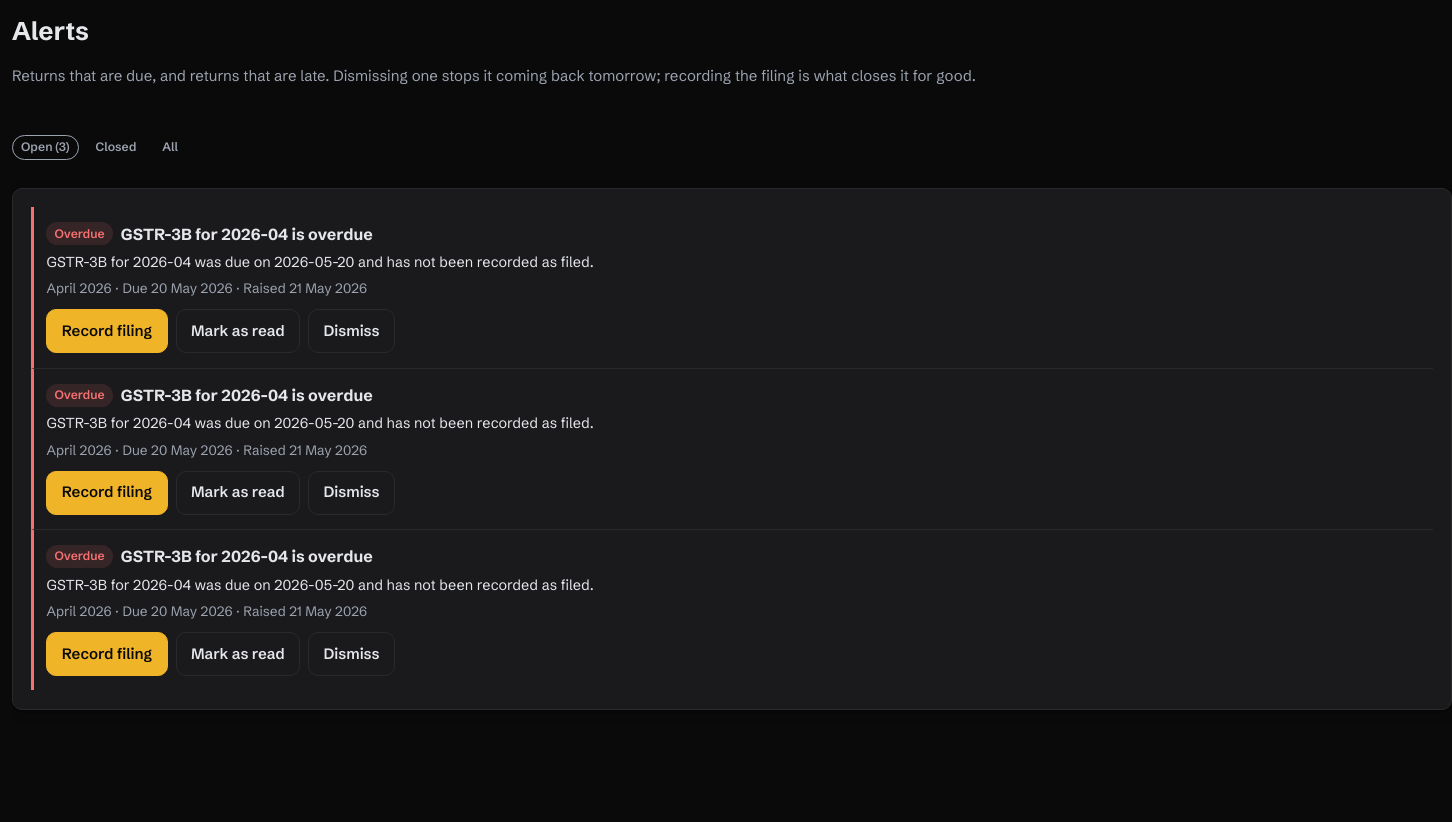
Test: an action that outlives the tab it was started on › does not take the same alert off the open count twice
This screenshot has width=1452, height=822.
Expected: the button "Open (3)" is shown, [12, 135, 79, 160]
Click the 1st button "Dismiss". click: [352, 331]
box: [308, 309, 395, 353]
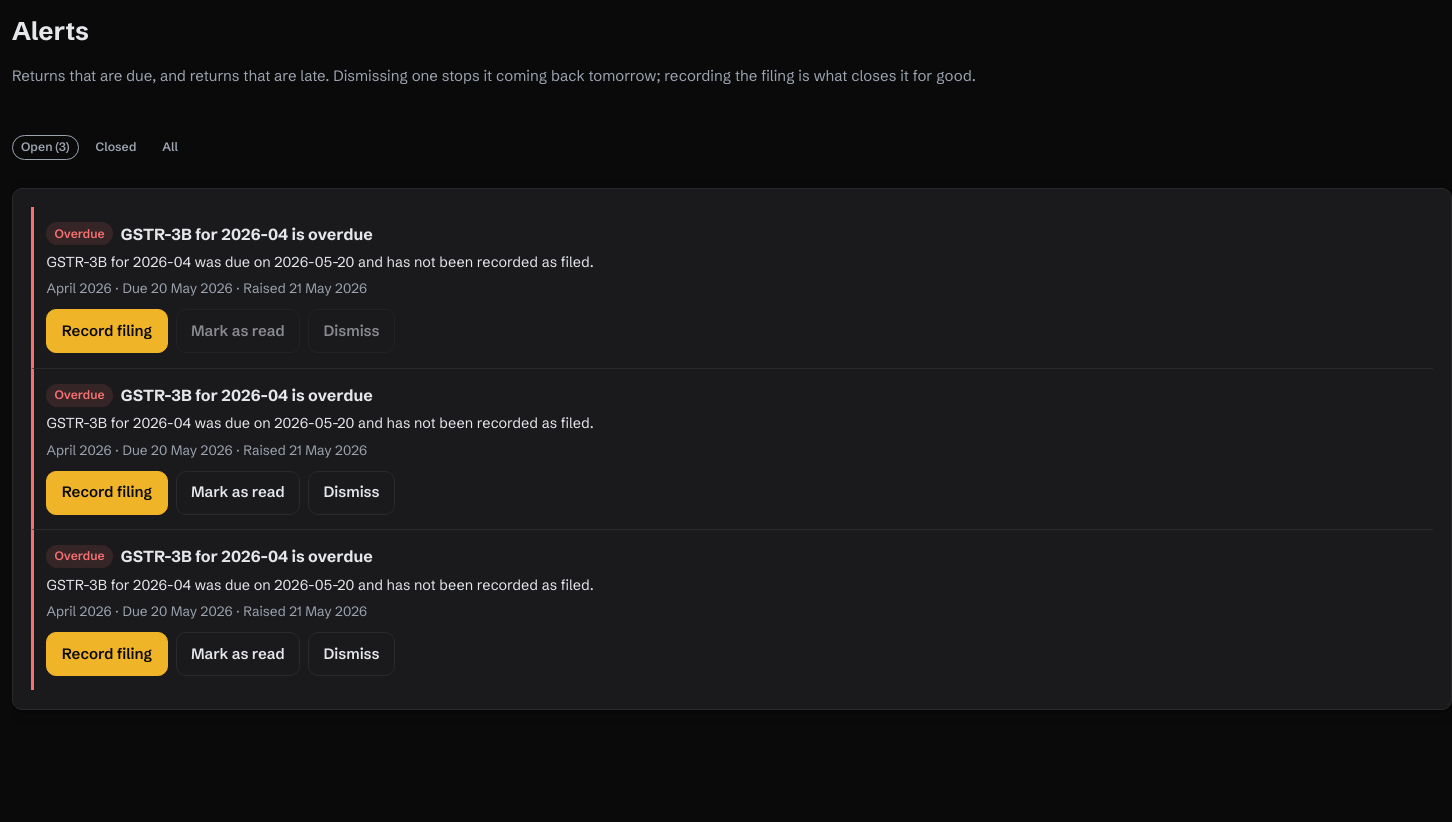
Click the button "Closed". click: [116, 147]
box: [87, 135, 145, 160]
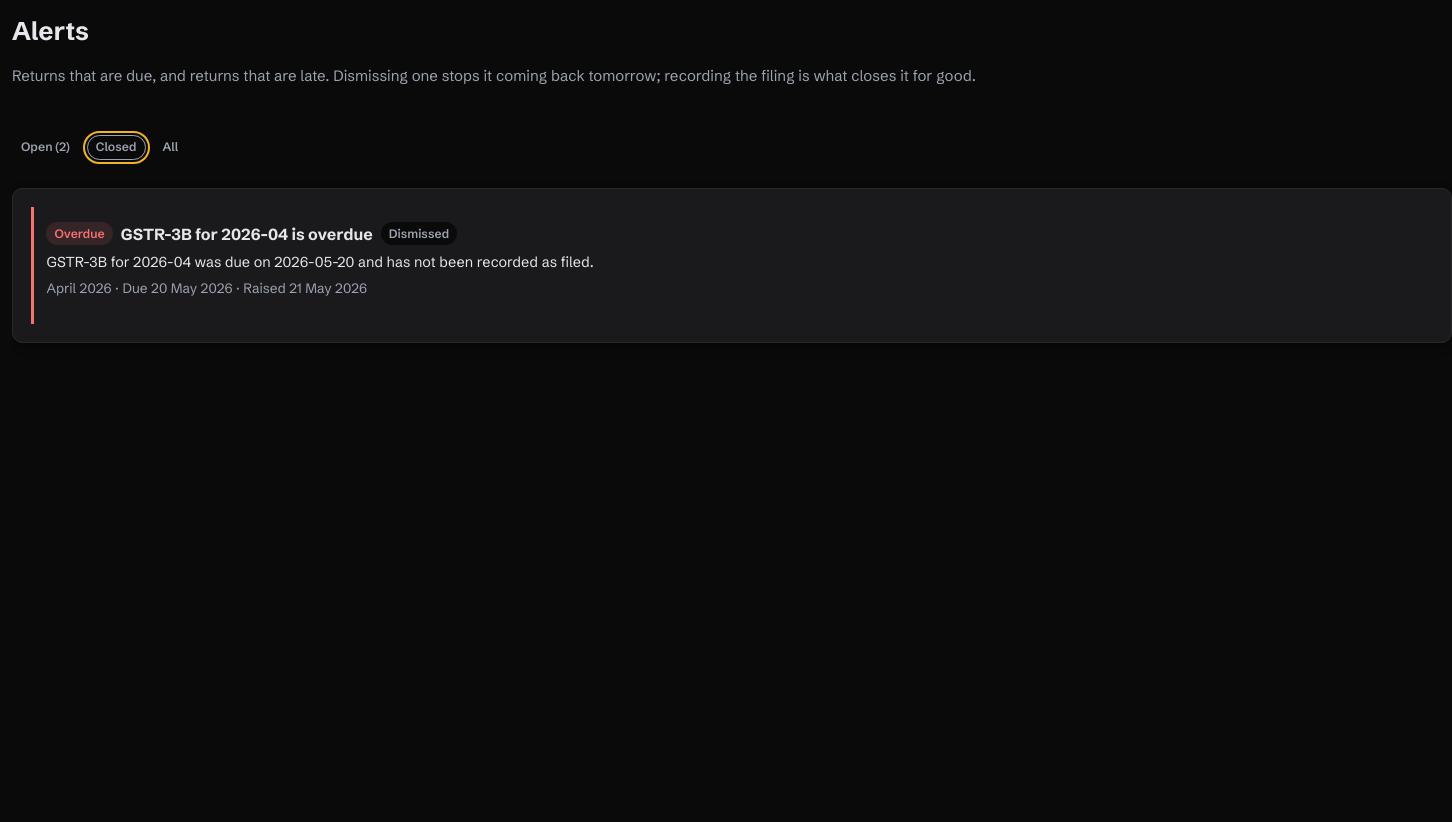
Expected: the text "Dismissed" is shown, [381, 222, 457, 245]
Expected: the button "Open (2)" is shown, [12, 135, 79, 160]
